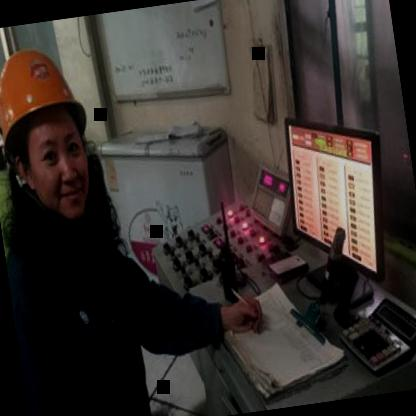helmet: (0, 24, 114, 241)
